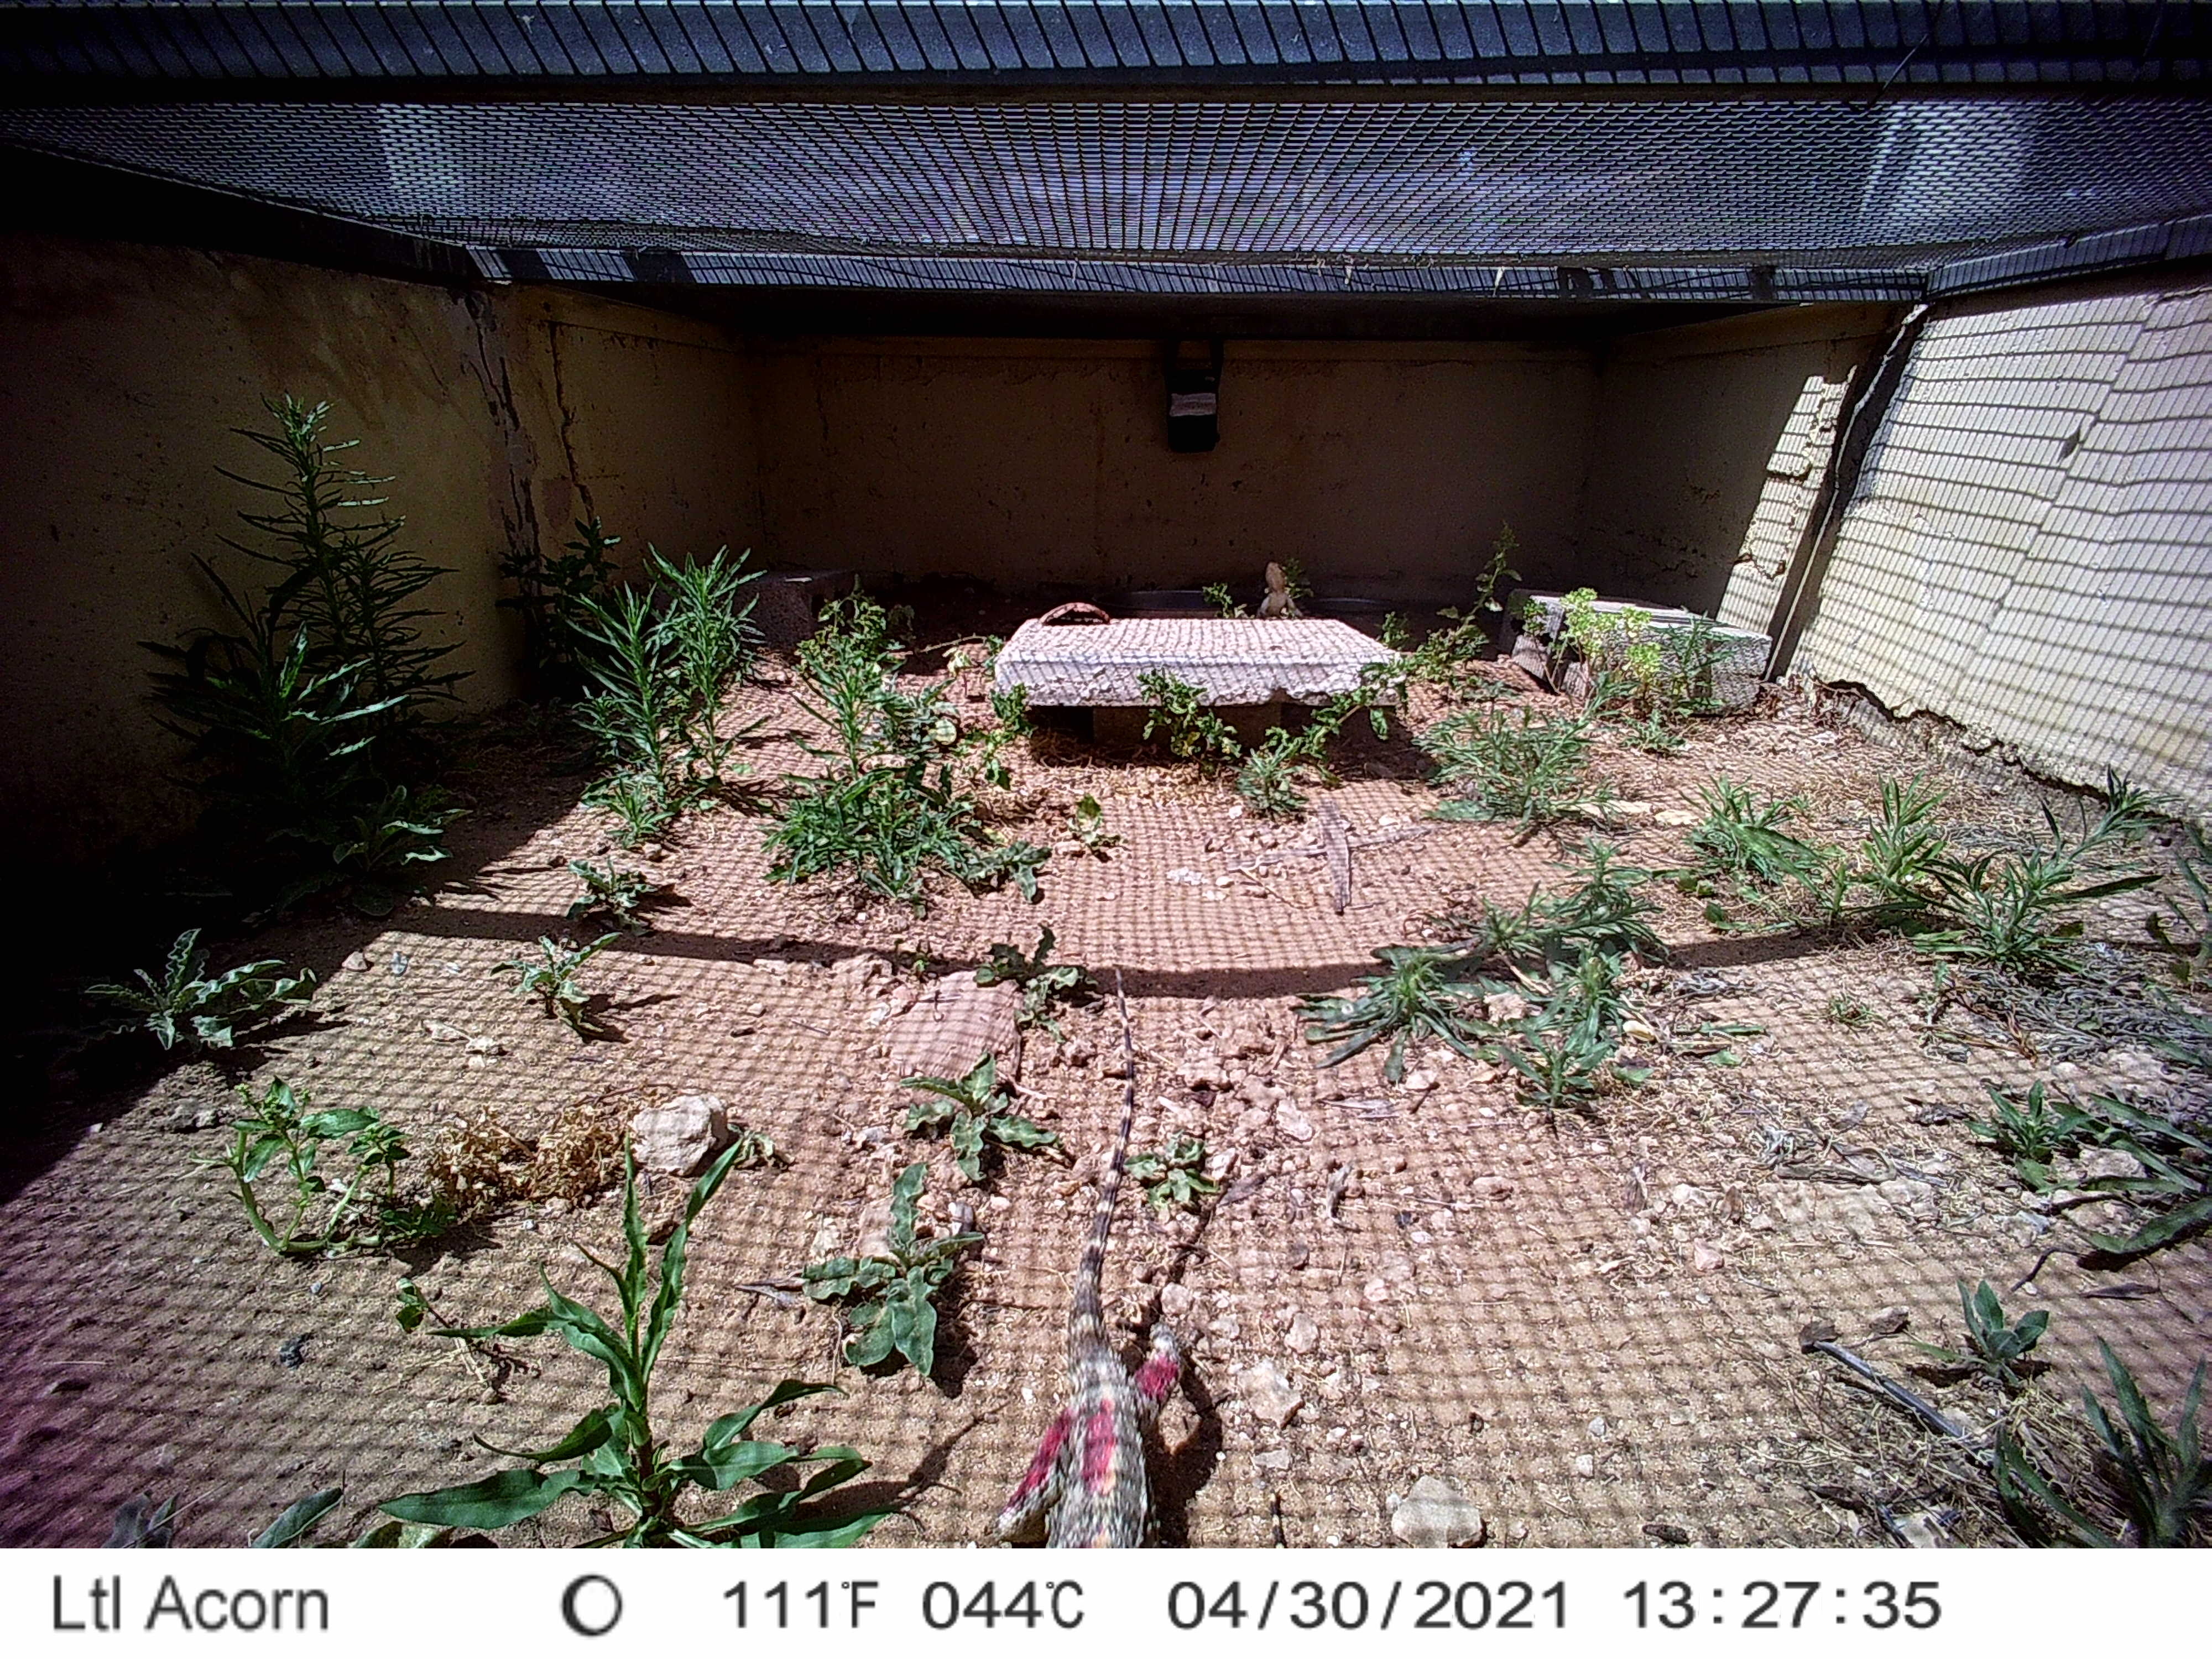lizard: (988, 965, 1188, 1546), (1240, 559, 1308, 620)
